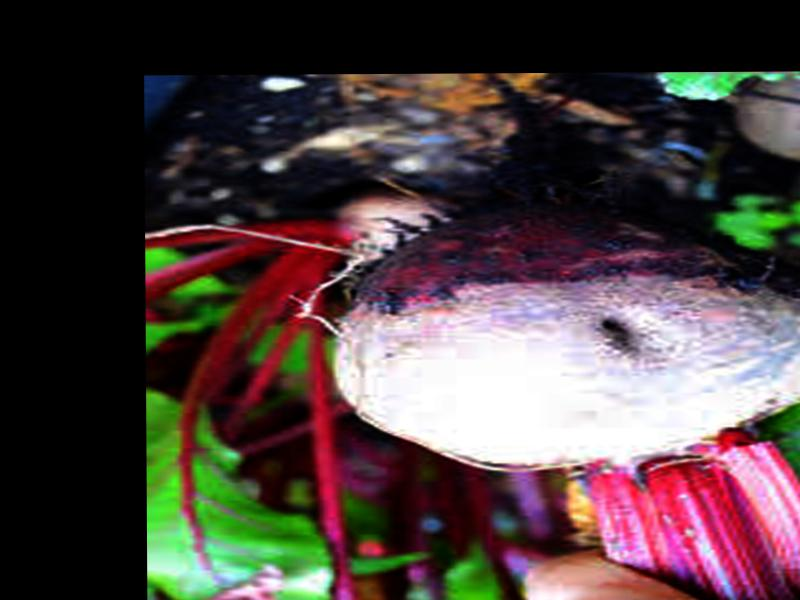Beet: (327, 70, 800, 600)
